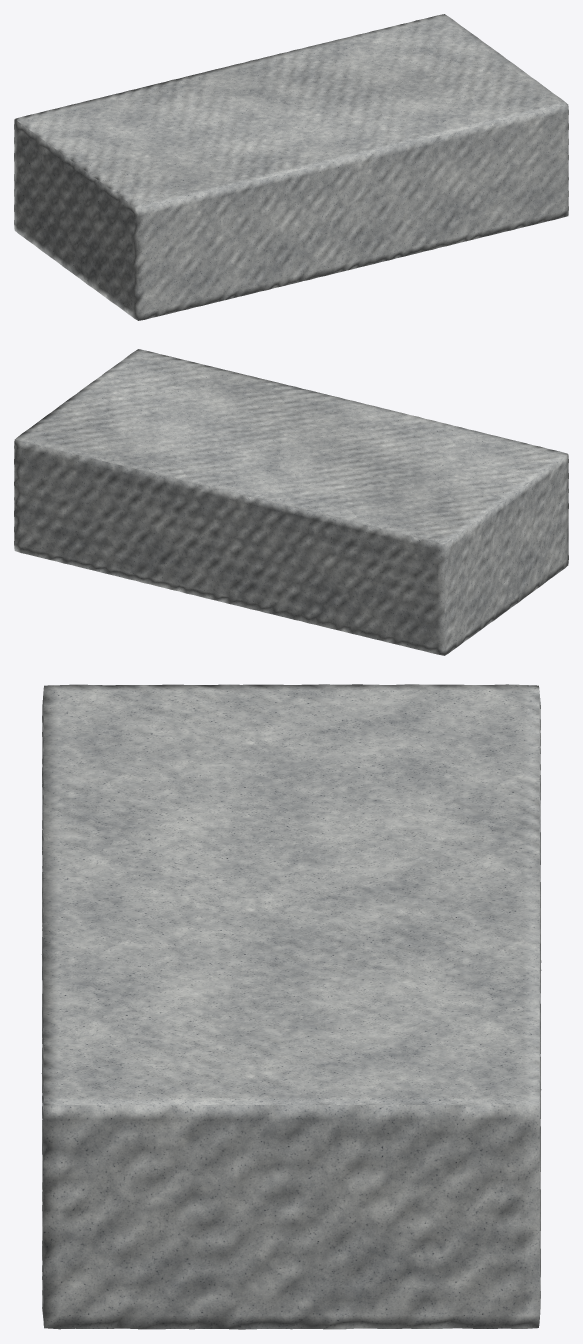
File: solid-cement-brick.glb
3 views of the same model, one above another, from view 1: azimuth 30°, elevation 25°; view 2: azimuth 150°, elevation 25°; view 3: azimuth 270°, elevation 25° (orthographic). The views are drawn at different scales.
Parts seen in each view (by area): view 1: solid-cement-brick; view 2: solid-cement-brick; view 3: solid-cement-brick.
Boxes of the visible parts, left/top/right/bottom form: solid-cement-brick: left=14, top=14, right=568, bottom=320; solid-cement-brick: left=14, top=349, right=568, bottom=655; solid-cement-brick: left=41, top=684, right=541, bottom=1329.
Bounding box in the file's own units: 0.2403 × 0.0603 × 0.1203.
1 material, 1 textured.
